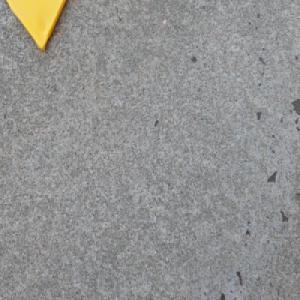PlasticPart: (4, 0, 68, 51)
